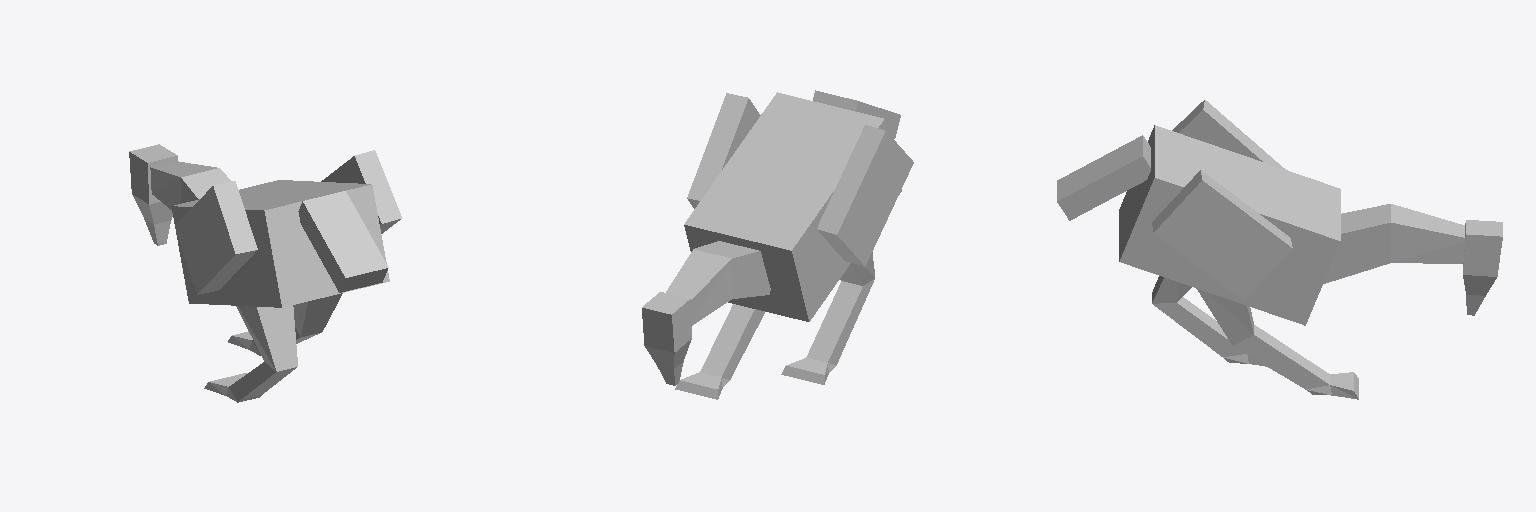
The model's file is Ostrich_000149.obj.
3 renders of one model, left to right at view 1: azimuth 30°, elevation 25°; view 2: azimuth 150°, elevation 25°; view 3: azimuth 270°, elevation 25°, orthographic.
Visible parts, largest first — view 1: Cube_Cube.001; view 2: Cube_Cube.001; view 3: Cube_Cube.001.
Part boxes in pixels (x1,y1,x2,y2): Cube_Cube.001: (129,144,401,402); Cube_Cube.001: (642,90,913,399); Cube_Cube.001: (1057,100,1502,399).
Bounding box in the file's own units: 0.7718 × 1.04 × 1.79.